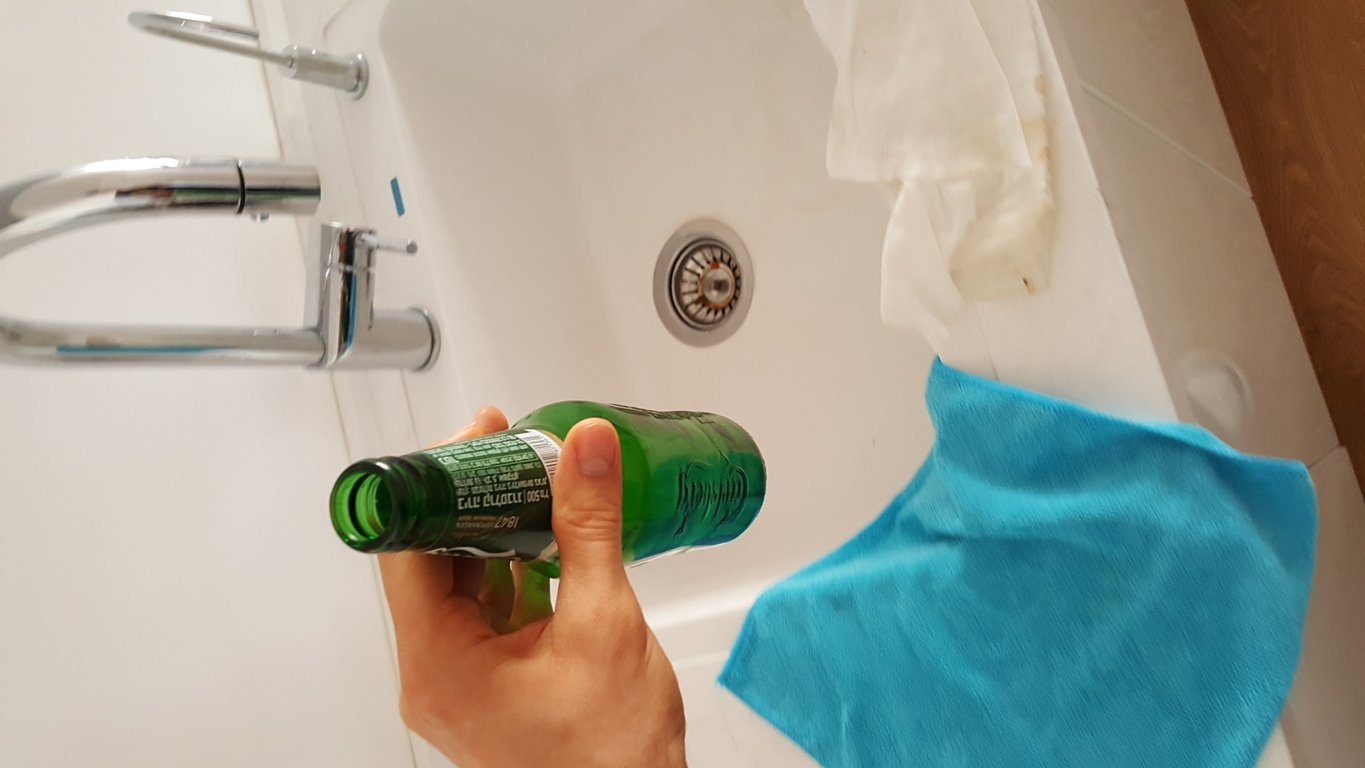beer: (330, 398, 768, 574)
